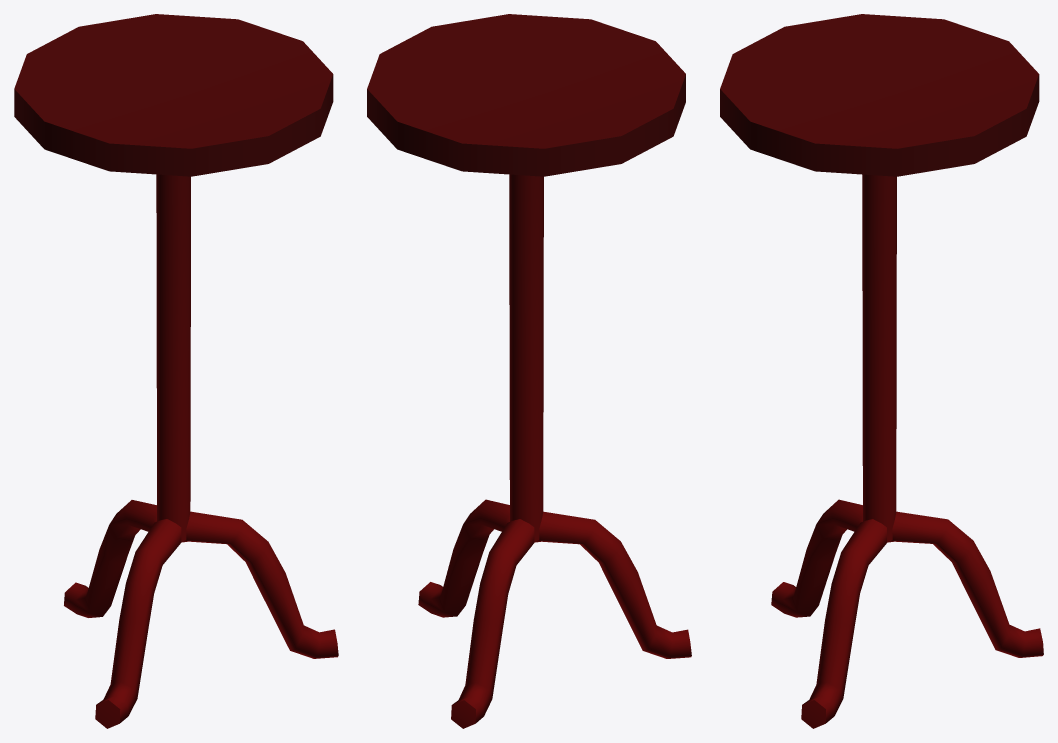
Rendered from EndTable.glb.
3 views of the same model, side by side, from view 1: azimuth 30°, elevation 25°; view 2: azimuth 150°, elevation 25°; view 3: azimuth 270°, elevation 25° (orthographic).
Parts seen in each view (by area): view 1: EndTable; view 2: EndTable; view 3: EndTable.
Boxes of the visible parts, x1=… form: EndTable: x1=14, y1=14, x2=338, y2=728; EndTable: x1=367, y1=14, x2=691, y2=728; EndTable: x1=720, y1=14, x2=1043, y2=728.
Bounding box in the file's own units: 1.55 × 3.14 × 1.58.
